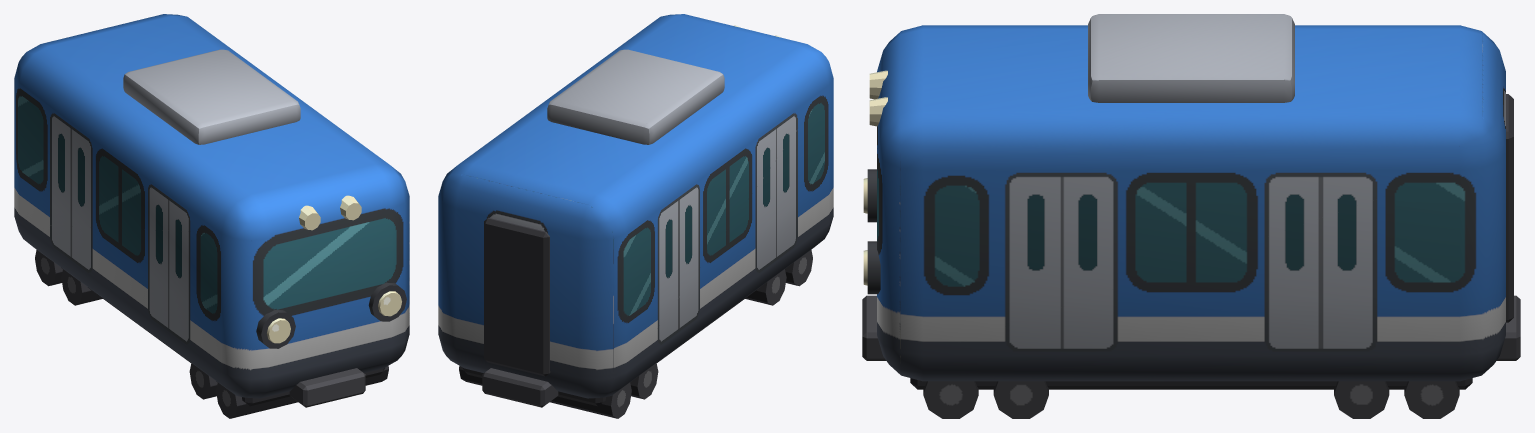
Rendered from MetroCab_Blue.fbx.
3 renders of one model, left to right at view 1: azimuth 30°, elevation 25°; view 2: azimuth 150°, elevation 25°; view 3: azimuth 270°, elevation 25°, orthographic. The views are drawn at different scales.
Visible parts, largest first — view 1: MetroCab_Blue; view 2: MetroCab_Blue; view 3: MetroCab_Blue.
Boxes of the visible parts, x1,y1,x2,y2 form: MetroCab_Blue: (14, 14, 409, 418); MetroCab_Blue: (438, 14, 833, 418); MetroCab_Blue: (862, 14, 1520, 418).
Size of the model in its own units: 7.6 by 9.71 by 17.8.
1 material, 1 textured.
